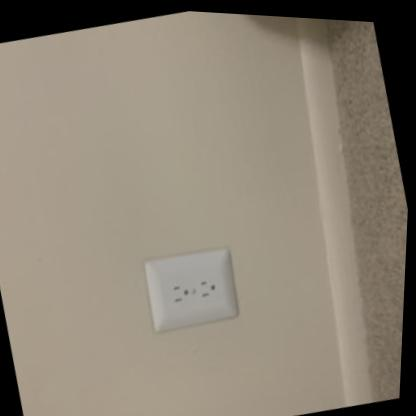OUTLET: (139, 243, 244, 337)
